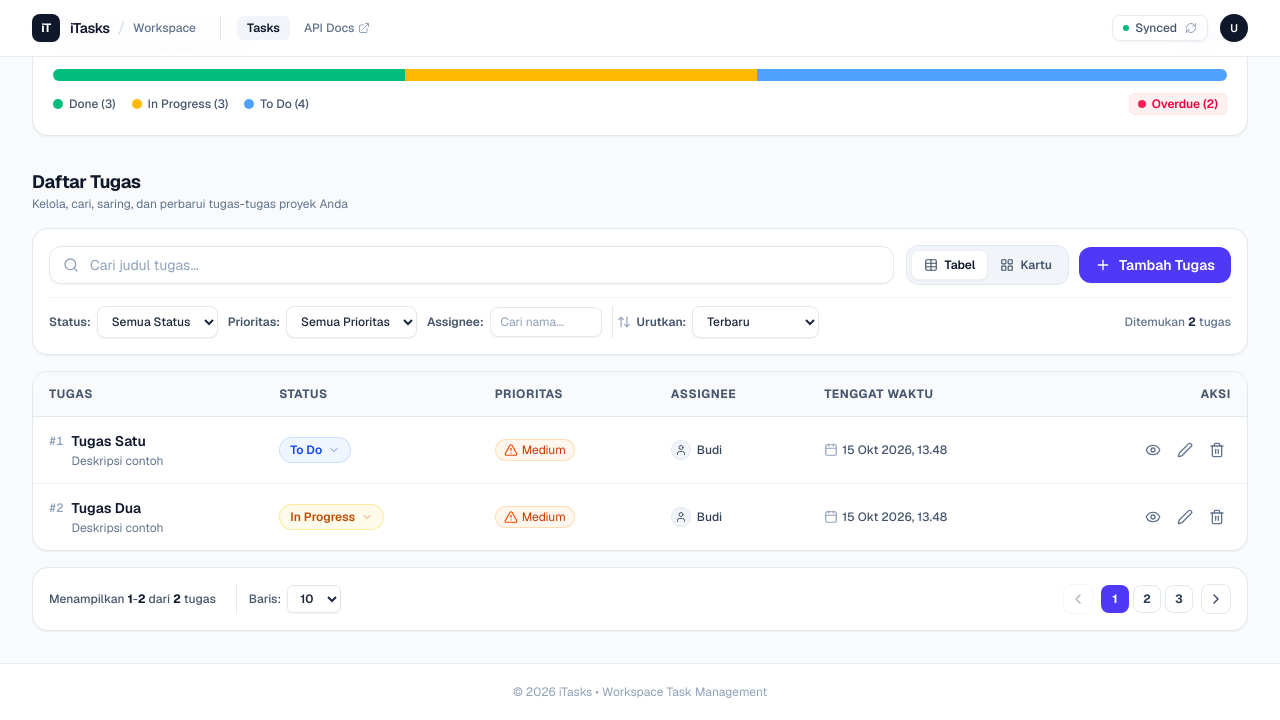
Test: HomePage › modal form › membatalkan edit lalu Tambah Tugas membuka form kosong
(page scrolled)
Click the button named "Edit task" in the row of "Tugas Dua". click: (1185, 517)
box: [1171, 503, 1199, 531]
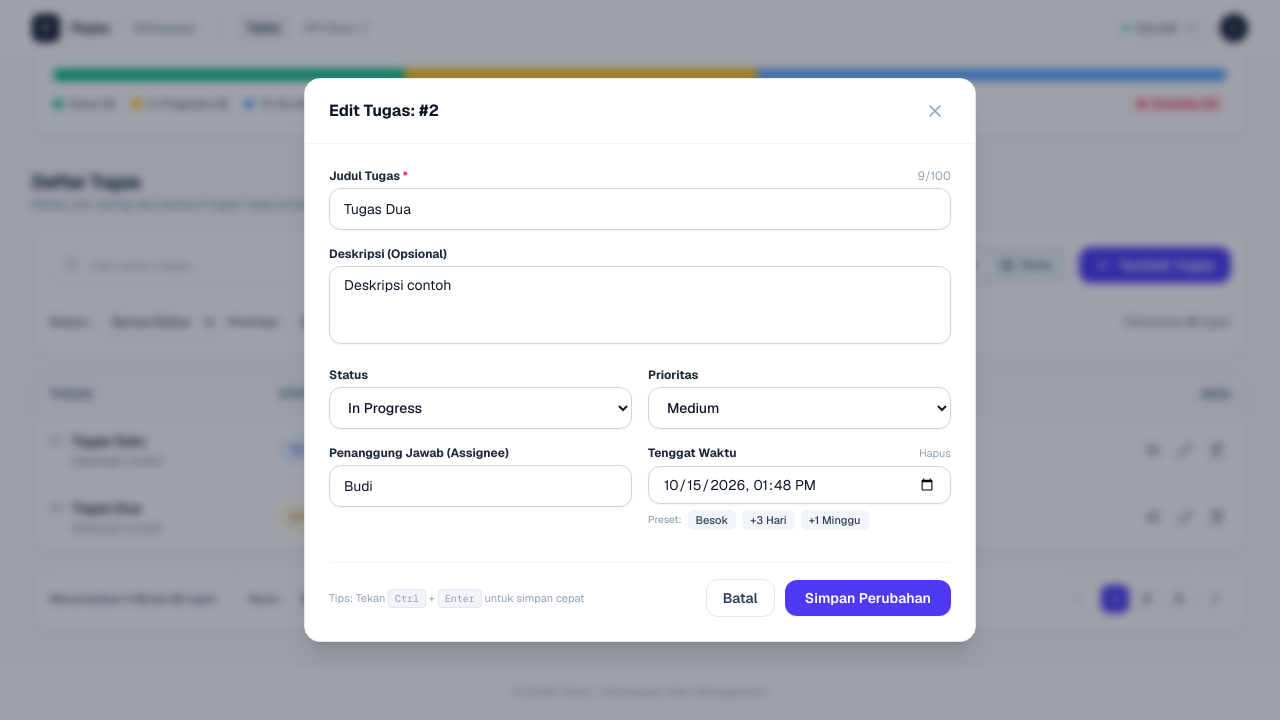
Click the button "Batal". click: (740, 598)
box: [706, 579, 775, 617]
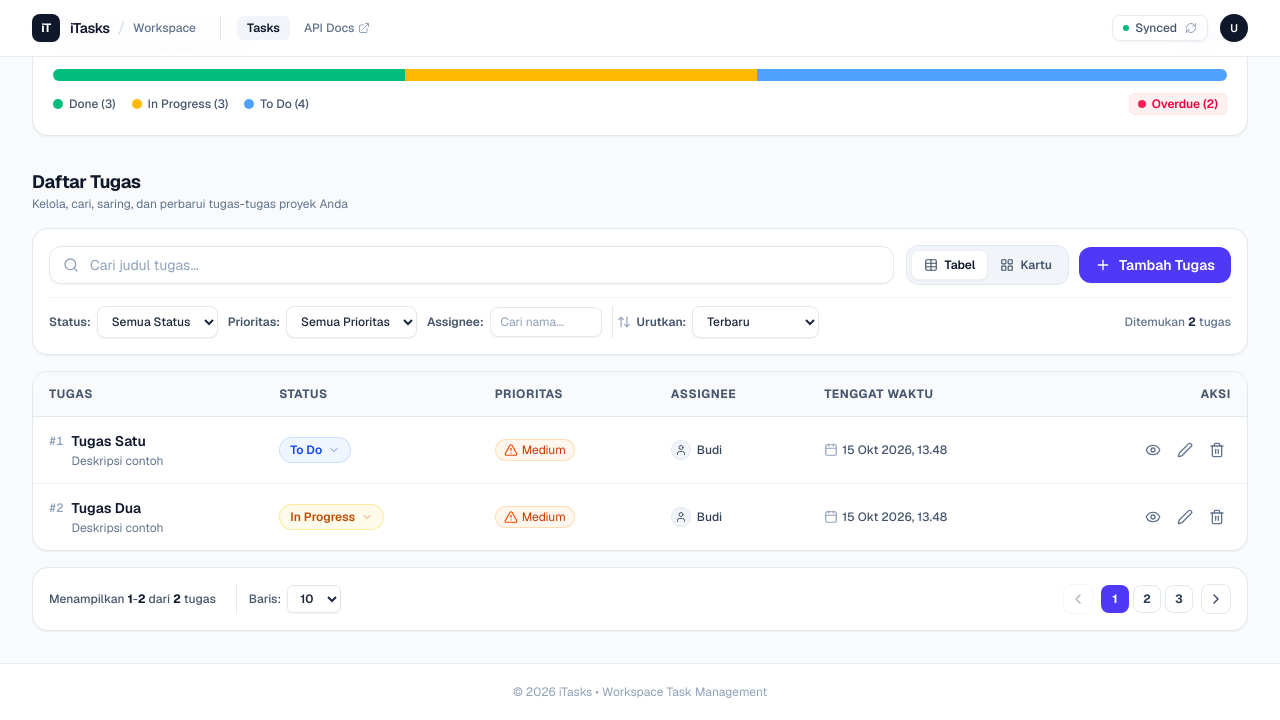
Now the dialog is gone
Click the button "Tambah Tugas". click: (1155, 265)
box: [1079, 247, 1231, 283]
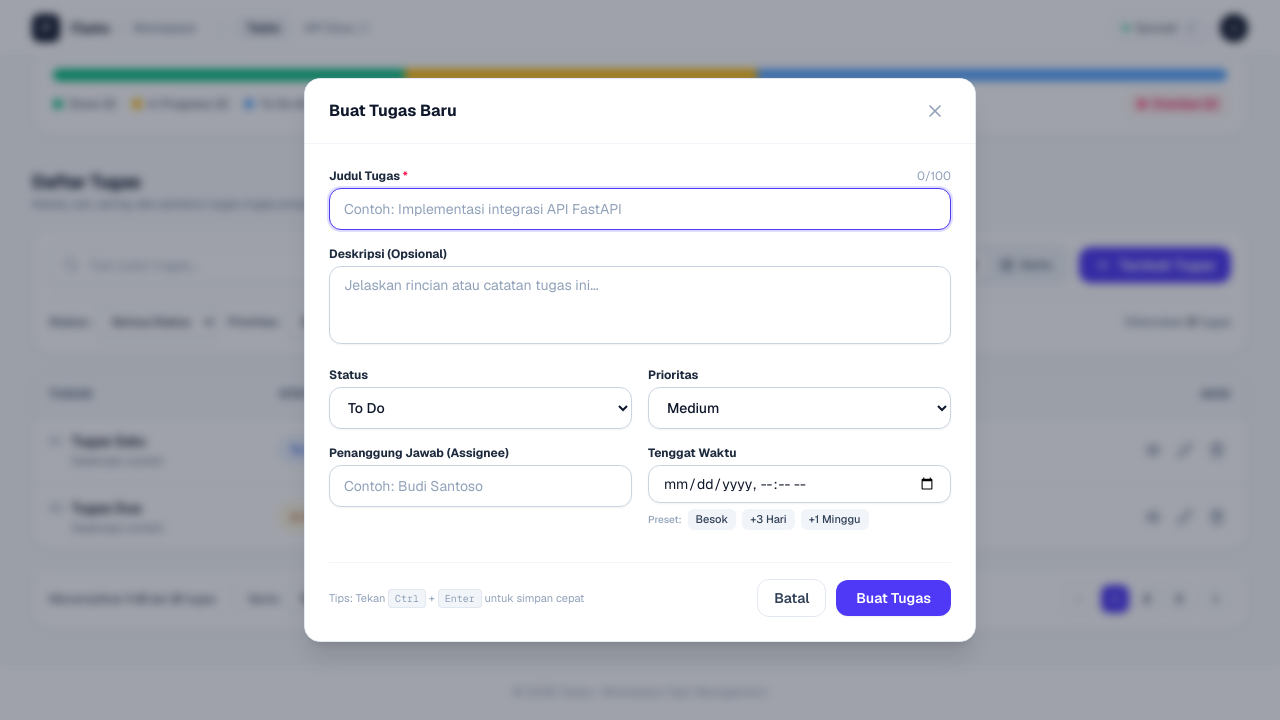
Now the dialog "Buat Tugas Baru" is shown, box [304, 78, 976, 642]
Now the field labelled "Judul Tugas *" is empty, box [329, 188, 951, 230]
